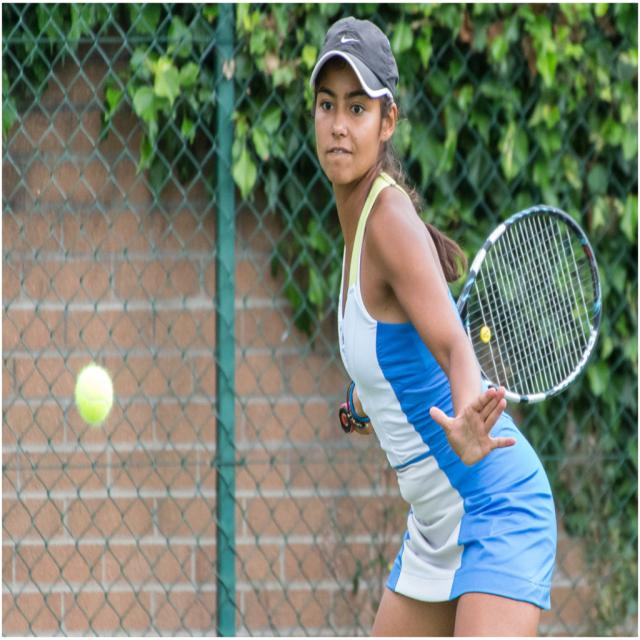Tennis ball: (75, 359, 113, 426)
